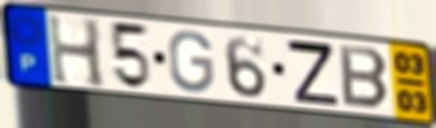5: (105, 18, 153, 92)
6: (222, 34, 269, 100)
B: (337, 42, 392, 112)
G: (166, 28, 216, 95)
H: (45, 11, 109, 91)
Z: (283, 37, 342, 109)
